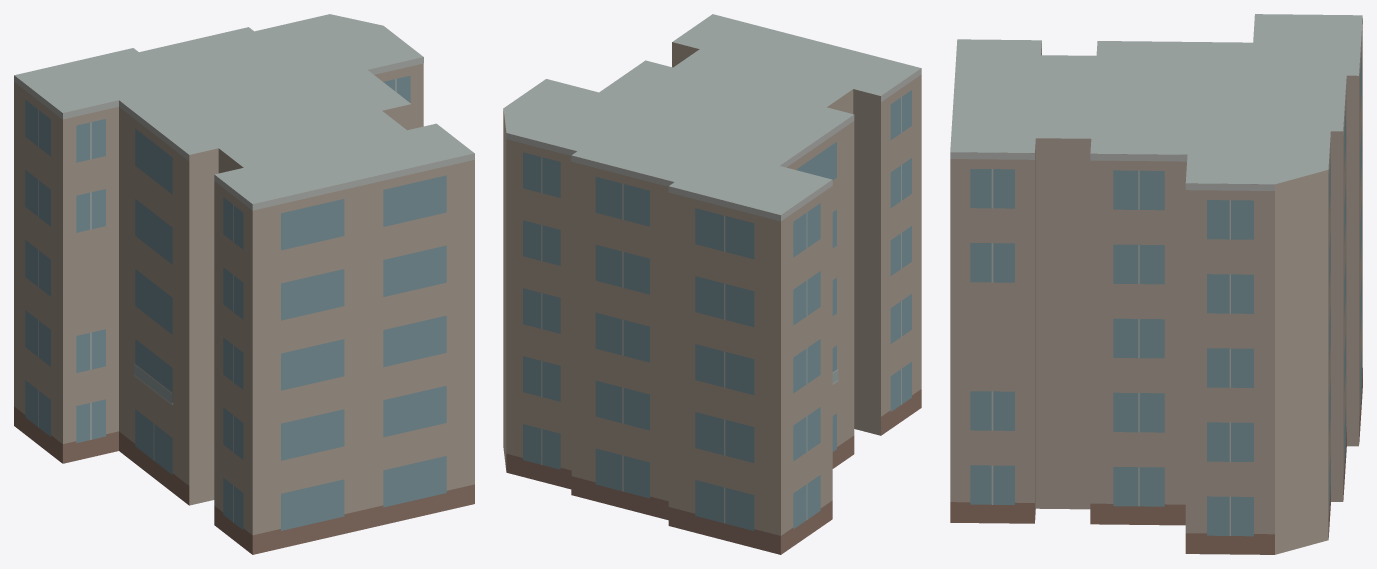
The model's file is survey-upis-33009005.glb.
The picture shows the model from 3 angles, left to right: view 1: azimuth 30°, elevation 25°; view 2: azimuth 150°, elevation 25°; view 3: azimuth 270°, elevation 25°; orthographic projection. The views are drawn at different scales.
Visible parts, largest first — view 1: survey-upis-33009005.tmp; view 2: survey-upis-33009005.tmp; view 3: survey-upis-33009005.tmp.
Part boxes in pixels (x1,y1,x2,y2): survey-upis-33009005.tmp: (14,14,474,554); survey-upis-33009005.tmp: (503,14,921,554); survey-upis-33009005.tmp: (950,14,1362,554).
Size of the model in its own units: 13.12 by 13.3 by 13.43.
